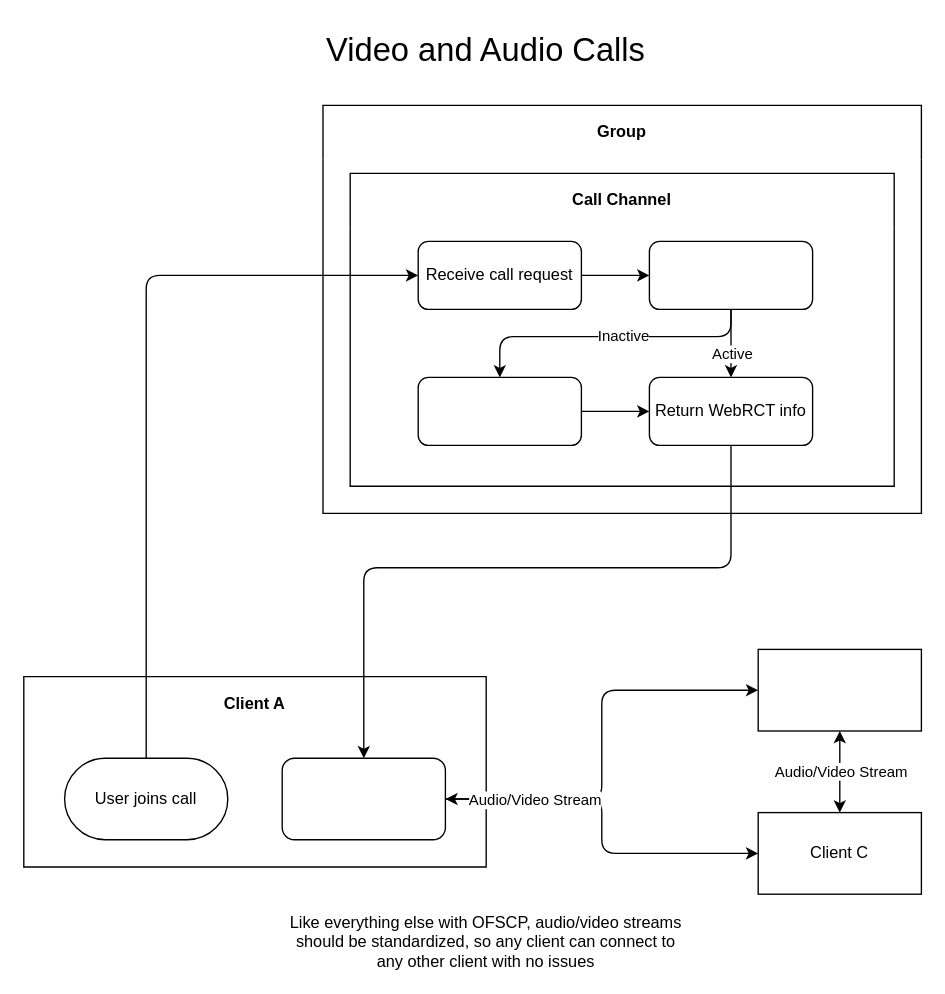
Image size: 945x994. Some labels were removed from this diagram. Here are the shapes that lost their labels. From the top down, the centre of each, then its label:
At point (730, 274): "Check if call is active".
At point (499, 410): "Start WebRCT".
At point (839, 689): "Client B".
At point (363, 798): "Open WebRCT connection and connect to peers".
